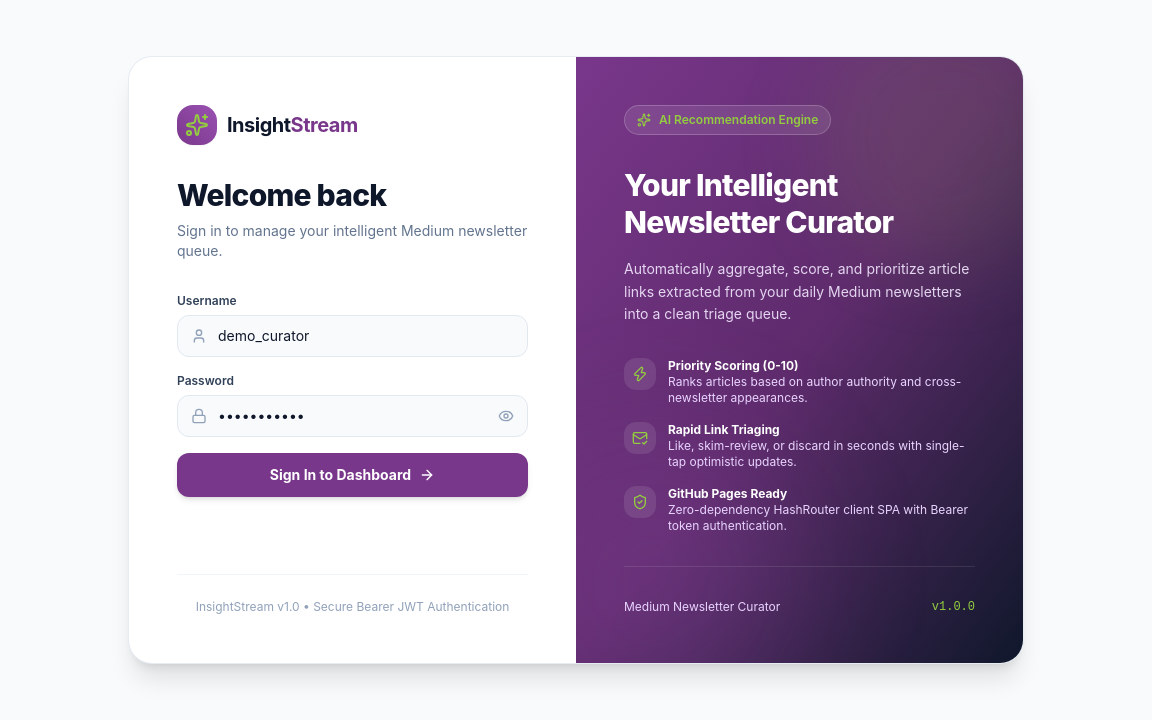
Test: LoginPage › prefers a response-shaped error message when available
The width and height of the screenshot is (1152, 720).
Click the button "Sign In to Dashboard" at (352, 475), box [177,453,528,497]
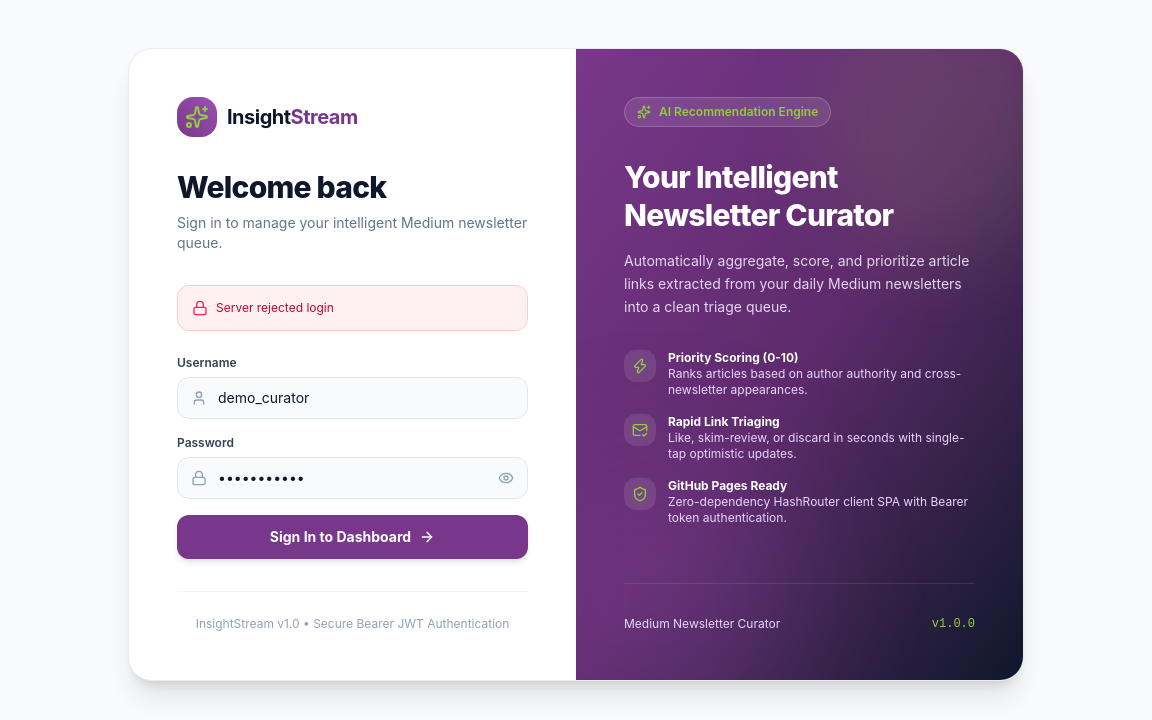
Check: the text "Server rejected login" is shown, box [216,300,334,316]
